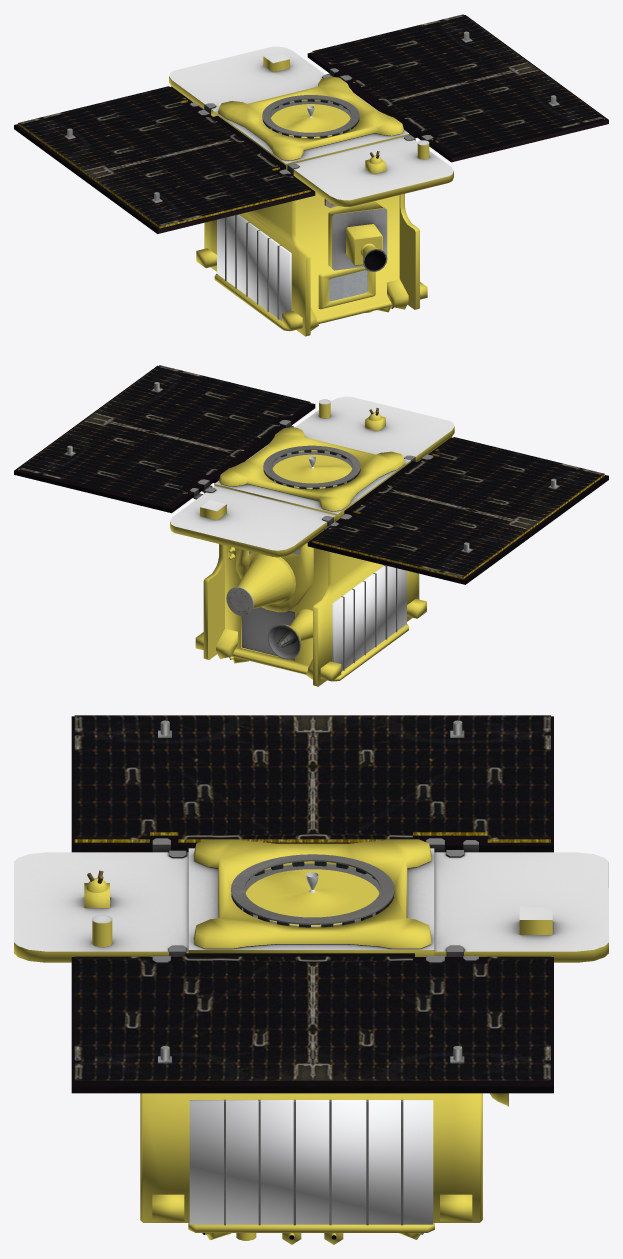
The model's file is grail.glb.
3 views of the same model, one above another, from view 1: azimuth 30°, elevation 25°; view 2: azimuth 150°, elevation 25°; view 3: azimuth 270°, elevation 25° (orthographic). The views are drawn at different scales.
Parts seen in each view (by area): view 1: shiny_panel, foil_gold, AO, tex, foil_silver, AO_hinges; view 2: shiny_panel, foil_gold, AO, tex, foil_silver, AO_2, AO_hinges; view 3: shiny_panel, foil_gold, AO, foil_silver, tex, AO_hinges.
Boxes of the visible parts, x1,y1,x2,y2 form: shiny_panel: (18,14,604,226); foil_gold: (169,56,453,336); AO: (169,46,453,270); tex: (14,15,608,319); foil_silver: (217,215,291,320); AO_hinges: (189,68,433,176); shiny_panel: (18,365,604,577); foil_gold: (170,403,454,686); AO: (170,396,454,660); tex: (14,365,608,670); foil_silver: (332,566,406,671); AO_2: (267,624,300,659); AO_hinges: (189,420,433,529); shiny_panel: (74,715,550,1080); foil_gold: (14,839,608,1244); AO: (14,848,608,951); foil_silver: (189,1100,433,1224); tex: (71,716,553,1240); AO_hinges: (152,838,478,963).
Bounding box in the file's own units: 3.09 × 1.3 × 2.1.
Materials: 9 (6 with a texture image).
